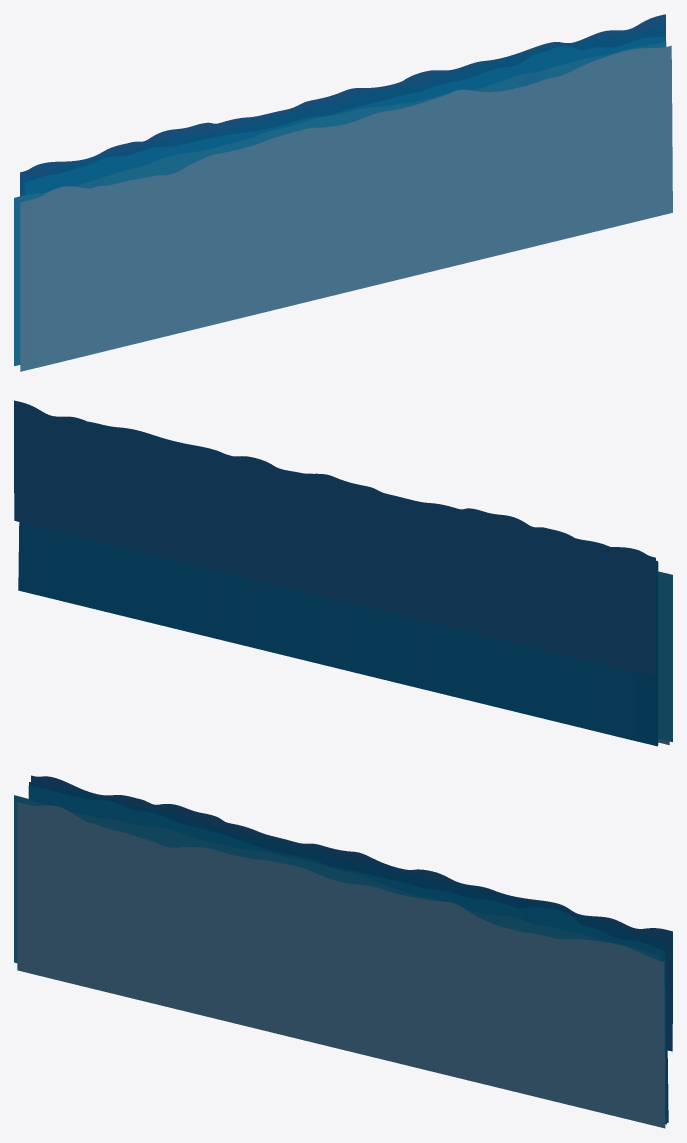
Rendered from waves3.fbx.
The picture shows the model from 3 angles, top to bottom: view 1: azimuth 30°, elevation 25°; view 2: azimuth 150°, elevation 25°; view 3: azimuth 330°, elevation 25°; orthographic projection.
Parts seen in each view (by area): view 1: pasted__pPlane12, pasted__pPlane10, pasted__pPlane11, pasted__pPlane9, pasted__pPlane7; view 2: pasted__pPlane7, pasted__pPlane9, pasted__pPlane11; view 3: pasted__pPlane12, pasted__pPlane10, pasted__pPlane9, pasted__pPlane11, pasted__pPlane7.
Part boxes in pixels (bbox=[...]): pasted__pPlane12: bbox=[20, 45, 672, 371]; pasted__pPlane10: bbox=[24, 36, 664, 195]; pasted__pPlane11: bbox=[14, 42, 666, 366]; pasted__pPlane9: bbox=[22, 24, 663, 195]; pasted__pPlane7: bbox=[20, 14, 665, 196]; pasted__pPlane7: bbox=[14, 400, 655, 677]; pasted__pPlane9: bbox=[18, 421, 657, 746]; pasted__pPlane11: bbox=[658, 571, 672, 741]; pasted__pPlane12: bbox=[17, 802, 665, 1128]; pasted__pPlane10: bbox=[28, 785, 666, 1124]; pasted__pPlane9: bbox=[29, 782, 668, 1122]; pasted__pPlane11: bbox=[14, 795, 659, 962]; pasted__pPlane7: bbox=[31, 775, 672, 1051].
Size of the model in its own units: 14.34 by 4.14 by 0.2766.
